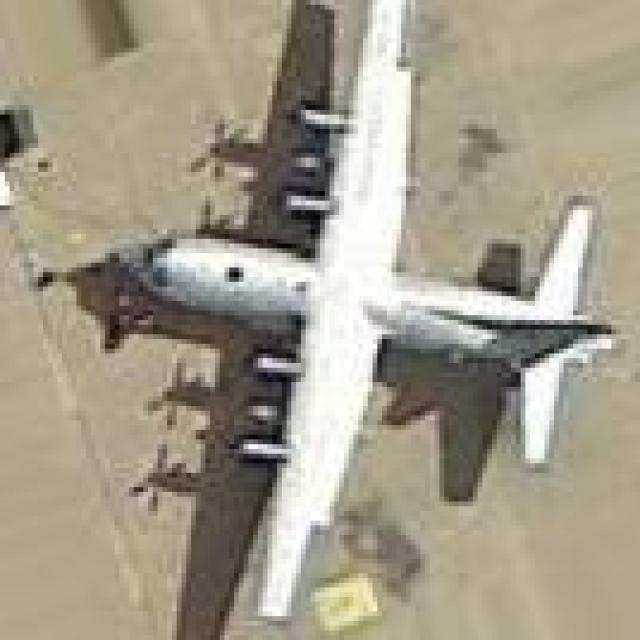C-130_TopDown: (50, 0, 618, 638)
